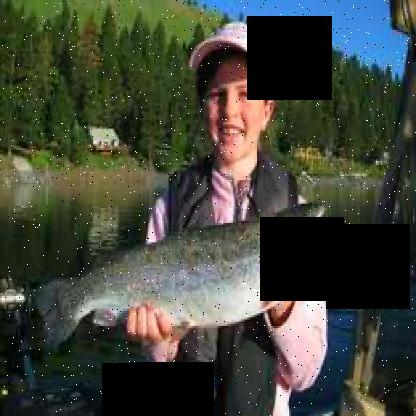fish: (32, 198, 333, 346)
